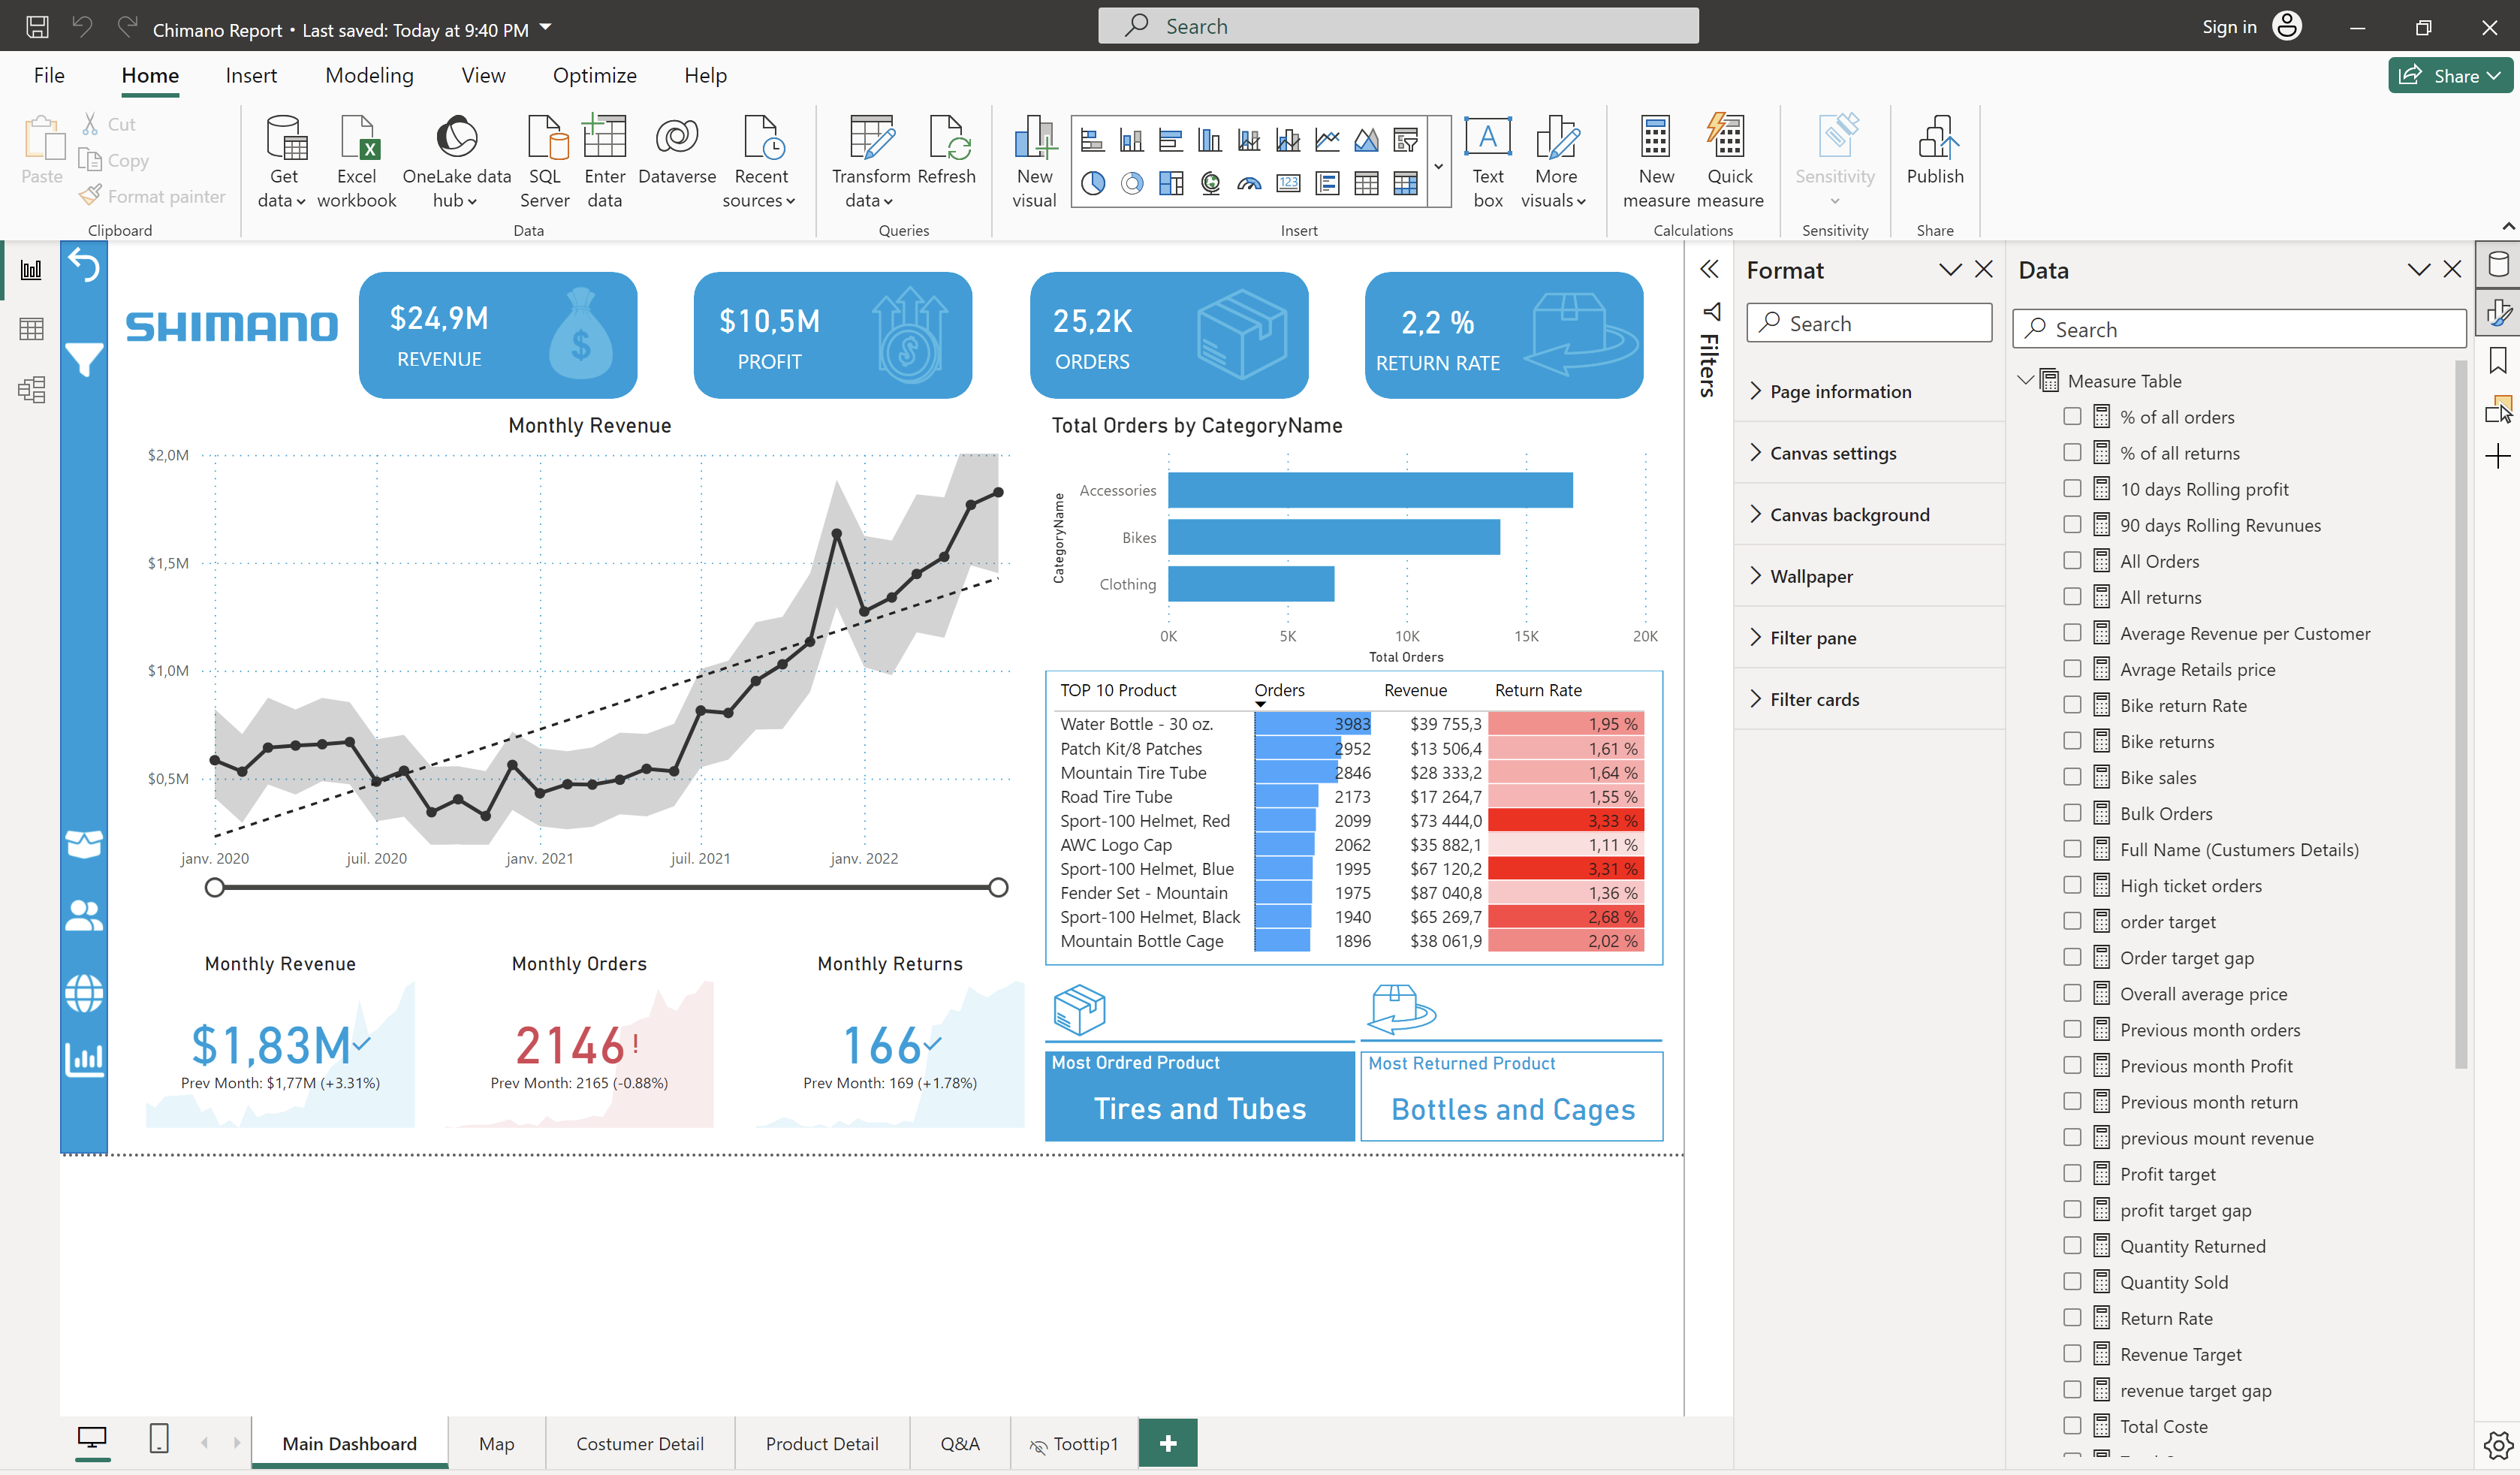

What the dashboard file says about the page in this screenshot:
{"tool":"powerbi","page":{"name":"Exec Dashboard","canvas":[1280,720],"ordinal":0},"visuals":[{"type":"shape","title":"Side bar","box":[0,0,37.8,720],"z":0},{"type":"group","id":"g1","title":"KPI Backgrounds","box":[235.9,25,1013.3,100],"z":0,"group":"g3"},{"type":"shape","box":[235.9,25,220,100],"z":0,"group":"g1"},{"type":"card","fields":{"Values":["Measure Table.Total Revenue"]},"box":[209,38.3,181.2,66],"z":0,"group":"g2"},{"type":"group","id":"g2","title":"KPI Valuees","box":[209,16.7,977.4,113.5],"z":1000,"group":"g3"},{"type":"card","fields":{"Values":["Measure Table.Total profit"]},"box":[460.8,16.7,197.9,112.4],"z":1000,"group":"g2"},{"type":"shape","box":[1029.2,25,220,100],"z":1000,"group":"g1"},{"type":"group","id":"g3","title":"KPI's","box":[209,16.7,1040.2,113.5],"z":2000},{"type":"card","fields":{"Values":["Measure Table.All Orders"]},"box":[716.3,16.8,197.9,112.4],"z":2000,"group":"g2"},{"type":"shape","box":[764.8,25,220,100],"z":2000,"group":"g1"},{"type":"card","fields":{"Values":["Measure Table.Return Rate"]},"box":[988.5,17.8,197.9,112.4],"z":3000,"group":"g2"},{"type":"shape","box":[500.3,25,220,100],"z":3000,"group":"g1"},{"type":"lineChart","title":"Monthly Revenue","fields":{"Y":["Measure Table.Total Revenue"],"Category":["Calendar Lookup.Calander Hierarchy.Start of Month"]},"box":[63.6,136.4,708,385.2],"z":3000},{"type":"kpi","title":"Monthly Revenue","fields":{"Indicator":["Measure Table.Total Revenue"],"TrendLine":["Calendar Lookup.Start of Month"],"Goal":["Measure Table.previous mount revenue"]},"box":[63.3,561.2,222.2,143.3],"z":4000},{"type":"kpi","title":"Monthly Orders","fields":{"TrendLine":["Calendar Lookup.Start of Month"],"Indicator":["Measure Table.Total Orders"],"Goal":["Measure Table.Previous month orders"]},"box":[298.9,561.2,222.2,143.3],"z":5000},{"type":"kpi","title":"Monthly Returns","fields":{"TrendLine":["Calendar Lookup.Start of Month"],"Indicator":["Measure Table.Total returns"],"Goal":["Measure Table.Previous month return"]},"box":[543.3,561.2,222.2,143.3],"z":6000},{"type":"tableEx","fields":{"Values":["Product Lookup.ProductName","Measure Table.Total Orders","Measure Table.Total Revenue","Measure Table.Return Rate"]},"box":[776.7,339.1,487.7,233.2],"z":7000},{"type":"card","title":"Most Ordred Product","fields":{"Values":["Min(Product Subcategories Lookup.SubcategoryName)"]},"box":[776.7,638.9,244.4,71.1],"z":8000},{"type":"card","title":"Most Returned Product","fields":{"Values":["Min(Product Subcategories Lookup.SubcategoryName)"]},"box":[1025.6,638.9,238.9,71.1],"z":9000},{"type":"actionButton","box":[0,0,37.6,37.6],"z":10000},{"type":"actionButton","box":[0,572.7,38.2,40.9],"z":11000},{"type":"actionButton","box":[0,456.4,38.2,40.9],"z":12000},{"type":"actionButton","box":[0,511.8,38.2,40.9],"z":13000},{"type":"actionButton","box":[0,623.3,38.9,46.7],"z":14000},{"type":"actionButton","box":[0,75,38.5,39.6],"z":15000},{"type":"clusteredBarChart","fields":{"Category":["Product Categories Lookup.CategoryName"],"Y":["Measure Table.Total Orders"]},"box":[777,136,488,203],"z":17000},{"type":"image","box":[47.8,0,176.6,136.1],"z":18000},{"type":"image","box":[367.9,31.6,84.5,82.7],"z":19000},{"type":"image","box":[626.2,30.7,87.3,87.3],"z":20000},{"type":"image","box":[889.1,33.4,85.5,81.8],"z":21000},{"type":"image","box":[1148.3,25.1,101.3,99.4],"z":22000},{"type":"image","box":[1025.7,574.1,65,65],"z":23000},{"type":"image","box":[776.7,581.6,53.9,51.1],"z":24000},{"type":"shape","box":[776.7,593.7,244.3,77.1],"z":25000},{"type":"shape","box":[1025.6,592.2,237.8,77.8],"z":26000}]}

Visuals, with their boxes on the page's 1280x720 design canvas (x1, y1, x2, y2). These are canvas units, not pixel positions in the 2520x1475 screenshot, which may show the page scaled, cropped or inside an application window:
"Side bar" shape: (x1=0, y1=0, x2=38, y2=720)
"KPI Backgrounds" group: (x1=236, y1=25, x2=1249, y2=125)
shape: (x1=236, y1=25, x2=456, y2=125)
card - Measure Table.Total Revenue: (x1=209, y1=38, x2=390, y2=104)
"KPI Valuees" group: (x1=209, y1=17, x2=1186, y2=130)
card - Measure Table.Total profit: (x1=461, y1=17, x2=659, y2=129)
shape: (x1=1029, y1=25, x2=1249, y2=125)
"KPI's" group: (x1=209, y1=17, x2=1249, y2=130)
card - Measure Table.All Orders: (x1=716, y1=17, x2=914, y2=129)
shape: (x1=765, y1=25, x2=985, y2=125)
card - Measure Table.Return Rate: (x1=988, y1=18, x2=1186, y2=130)
shape: (x1=500, y1=25, x2=720, y2=125)
"Monthly Revenue" lineChart: (x1=64, y1=136, x2=772, y2=522)
"Monthly Revenue" kpi: (x1=63, y1=561, x2=286, y2=704)
"Monthly Orders" kpi: (x1=299, y1=561, x2=521, y2=704)
"Monthly Returns" kpi: (x1=543, y1=561, x2=766, y2=704)
tableEx - Product Lookup.ProductName x Measure Table.Total Orders: (x1=777, y1=339, x2=1264, y2=572)
"Most Ordred Product" card: (x1=777, y1=639, x2=1021, y2=710)
"Most Returned Product" card: (x1=1026, y1=639, x2=1264, y2=710)
actionButton: (x1=0, y1=0, x2=38, y2=38)
actionButton: (x1=0, y1=573, x2=38, y2=614)
actionButton: (x1=0, y1=456, x2=38, y2=497)
actionButton: (x1=0, y1=512, x2=38, y2=553)
actionButton: (x1=0, y1=623, x2=39, y2=670)
actionButton: (x1=0, y1=75, x2=38, y2=115)
clusteredBarChart - Product Categories Lookup.CategoryName x Measure Table.Total Orders: (x1=777, y1=136, x2=1265, y2=339)
image: (x1=48, y1=0, x2=224, y2=136)
image: (x1=368, y1=32, x2=452, y2=114)
image: (x1=626, y1=31, x2=714, y2=118)
image: (x1=889, y1=33, x2=975, y2=115)
image: (x1=1148, y1=25, x2=1250, y2=124)
image: (x1=1026, y1=574, x2=1091, y2=639)
image: (x1=777, y1=582, x2=831, y2=633)
shape: (x1=777, y1=594, x2=1021, y2=671)
shape: (x1=1026, y1=592, x2=1263, y2=670)
